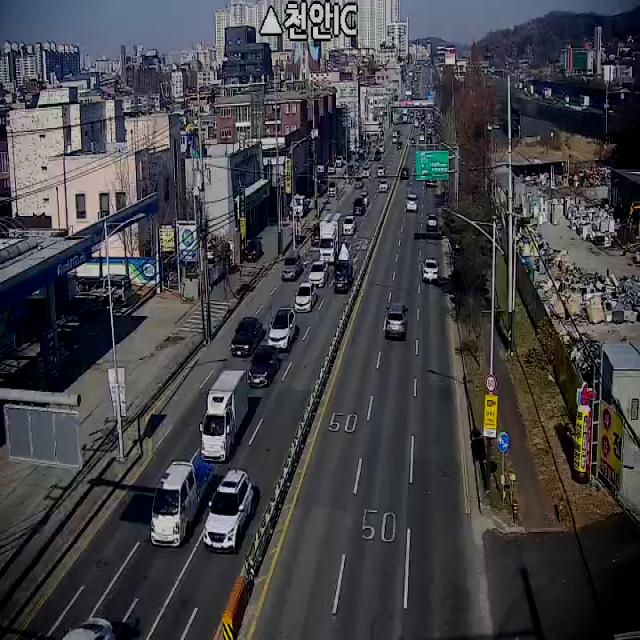Car: (203, 469, 253, 552), (230, 316, 263, 358), (248, 346, 279, 388), (90, 274, 132, 304), (62, 618, 116, 640), (268, 308, 296, 350), (386, 304, 408, 341), (295, 282, 316, 312), (281, 251, 302, 281), (335, 260, 353, 292), (308, 261, 328, 287), (245, 238, 262, 262), (422, 258, 438, 282), (343, 215, 356, 235), (406, 194, 418, 212), (311, 222, 320, 245), (353, 198, 365, 215), (427, 214, 438, 228), (327, 181, 337, 196), (360, 191, 370, 206), (378, 179, 388, 192), (377, 164, 385, 177), (363, 166, 370, 178), (401, 168, 408, 180)
Truck: (151, 460, 217, 547), (200, 369, 248, 462), (320, 213, 342, 262)
